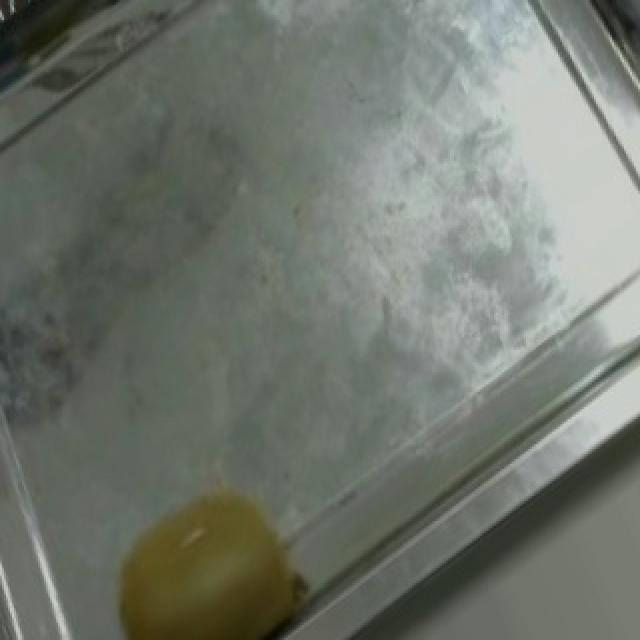Fruit: (82, 449, 344, 640)
